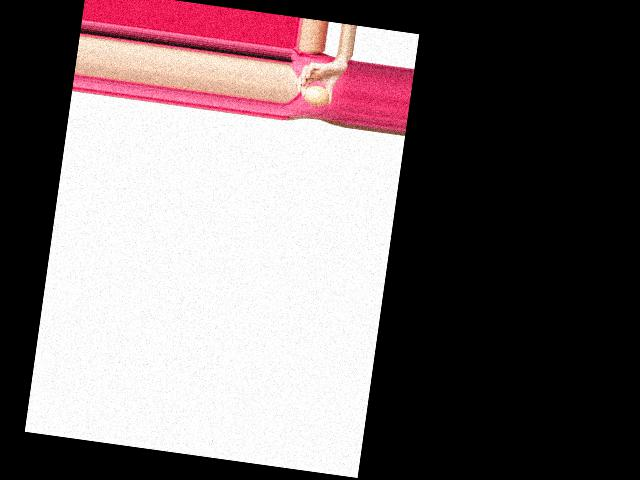egg: (302, 83, 330, 107)
